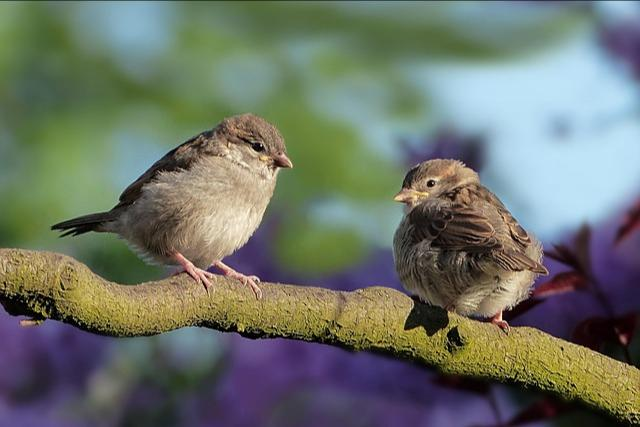Non_Gorille: (62, 54, 604, 394)
